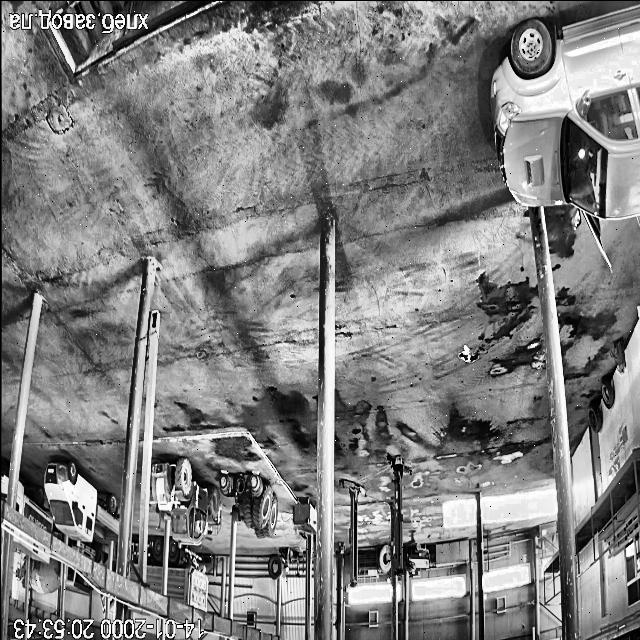class6: (151, 458, 220, 544), (220, 475, 278, 538)
class7: (44, 460, 119, 540), (168, 540, 208, 612), (16, 483, 52, 532), (29, 559, 60, 594), (146, 538, 163, 591), (12, 538, 48, 561), (68, 540, 103, 562), (65, 567, 92, 595), (0, 461, 8, 500), (132, 543, 142, 564), (19, 564, 24, 582), (130, 571, 135, 580)
mechanic: (490, 4, 640, 247)
tractor: (615, 340, 624, 372)
truck: (388, 455, 411, 574), (342, 479, 365, 588)
